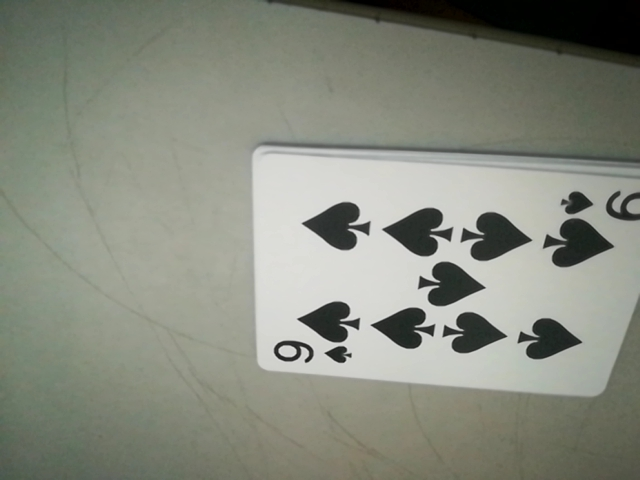ht 9: (265, 338, 360, 373)
